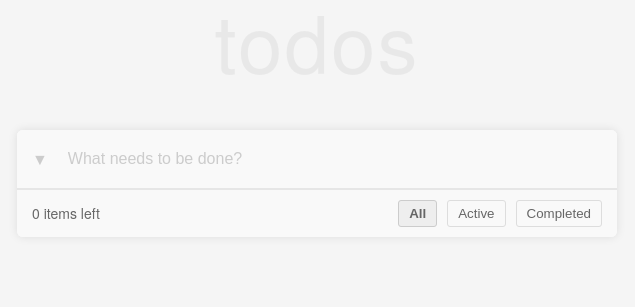
Test: App › добавляет новую задачу при отправке формы
The width and height of the screenshot is (635, 307).
Type "Новая задача" into the field with placeholder "What needs to be done?".
click(330, 159); type("Новая задача")  # box top-left (58, 140), bottom-right (602, 178)
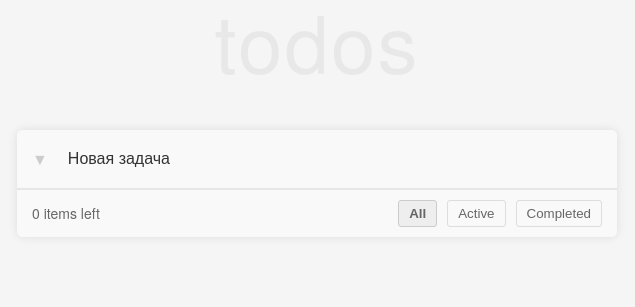
Submit the form, box top-left (17, 130), bottom-right (617, 189)
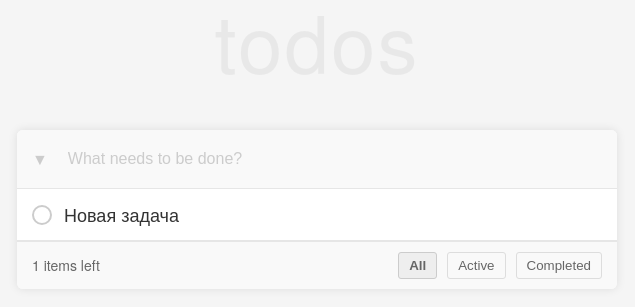
Result: the text "Новая задача" is shown at top-left (64, 201), bottom-right (179, 227)
